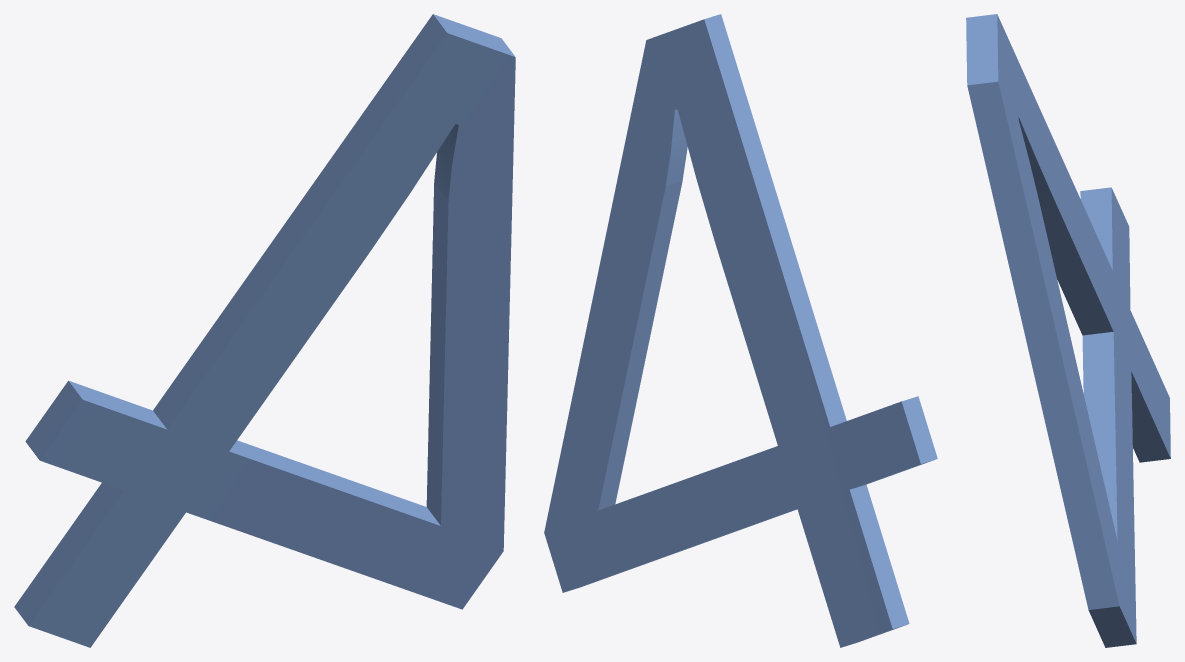
File: New_Number_4.gltf
3 renders of one model, left to right at view 1: azimuth 30°, elevation 25°; view 2: azimuth 150°, elevation 25°; view 3: azimuth 270°, elevation 25°, orthographic. The views are drawn at different scales.
Parts seen in each view (by area): view 1: Part 454; view 2: Part 454; view 3: Part 454.
Boxes of the visible parts, box(x1,y1,x2,y2) form: Part 454: box(14, 14, 515, 647); Part 454: box(544, 14, 937, 647); Part 454: box(966, 14, 1170, 647).
Size of the model in its own units: 0.00383 by 0.00525 by 0.00164.
